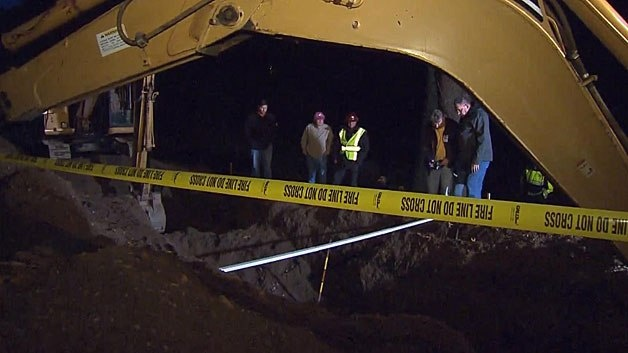none: (452, 94, 471, 116), (427, 108, 443, 129), (255, 98, 269, 114)
red: (344, 112, 358, 128), (311, 111, 325, 127)
